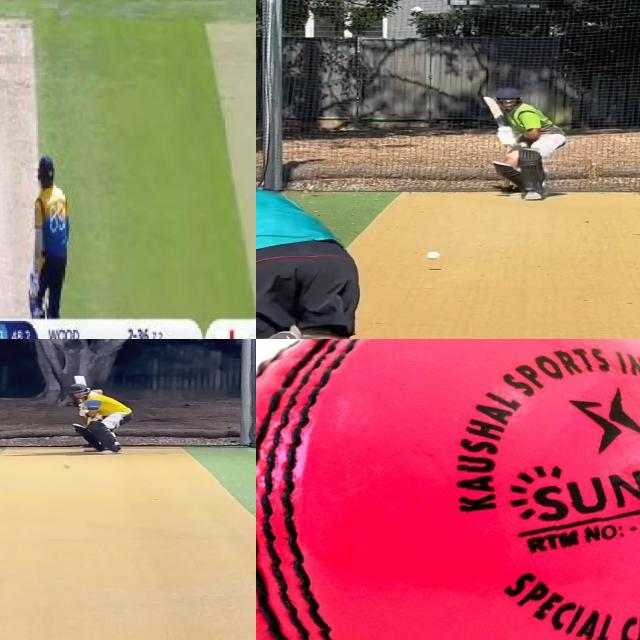Cricket ball: (256, 339, 640, 640), (426, 251, 443, 263), (62, 462, 74, 470)
